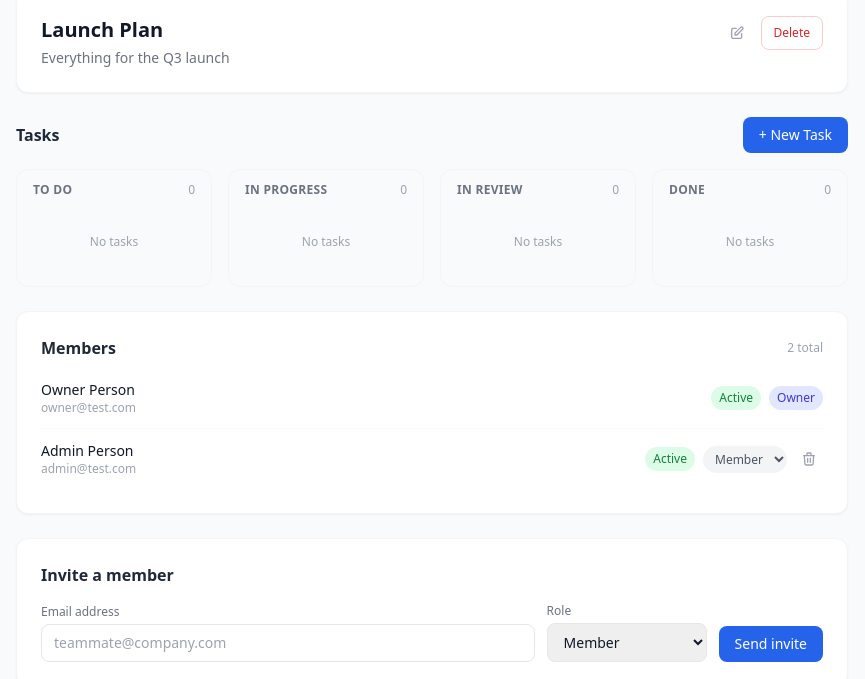
ProjectDetail › changes a member role and removes a member
Check: the text "Admin Person" is shown, box left=41, top=441, right=136, bottom=461
Select "Admin" in the dropdown named "change role for admin person". click: {"x": 745, "y": 459}
box: left=703, top=446, right=787, bottom=472
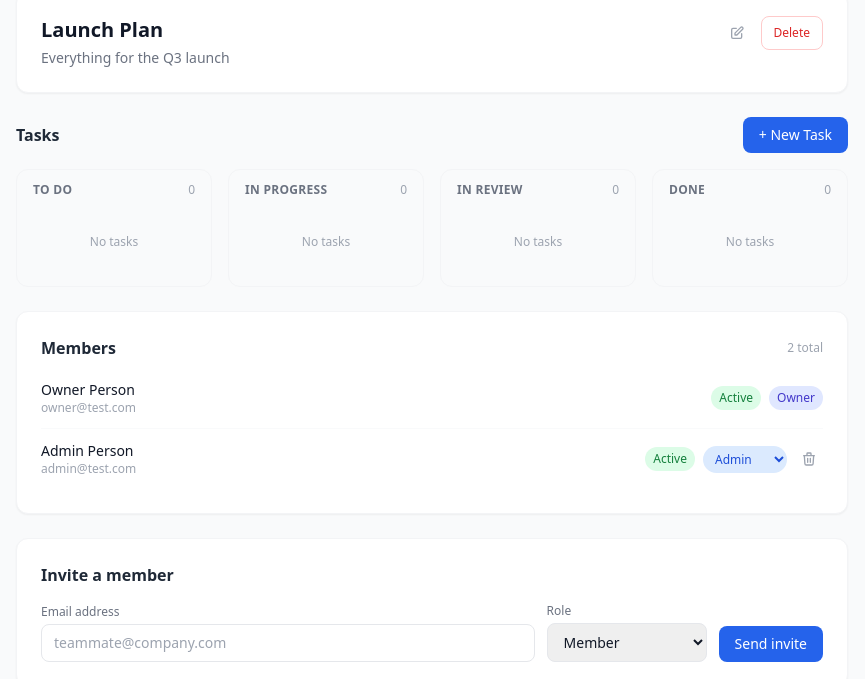
Click the button named "remove admin person". click: {"x": 809, "y": 459}
box: left=795, top=445, right=823, bottom=473
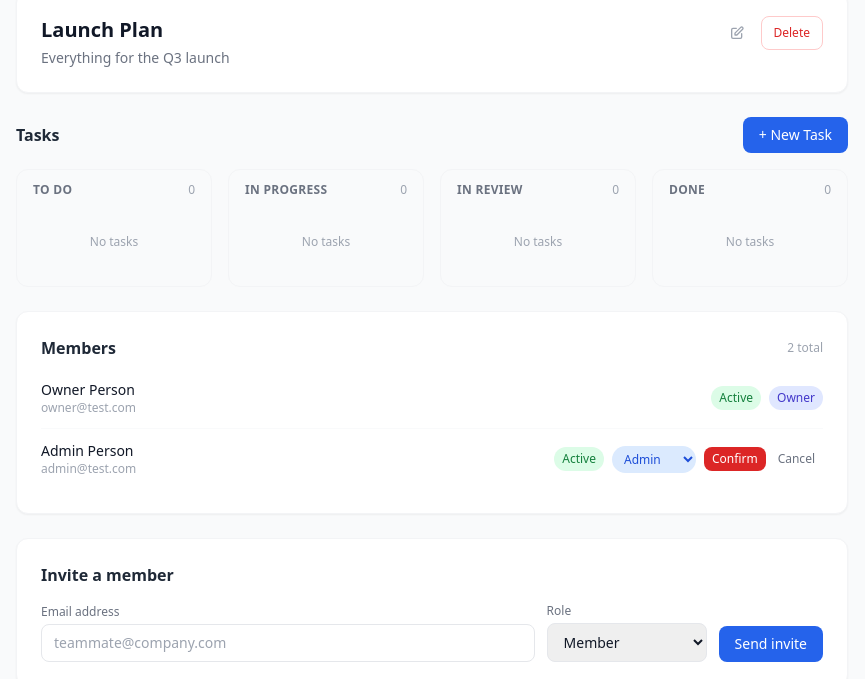
Click the button "Confirm". click: {"x": 735, "y": 459}
box: left=704, top=447, right=766, bottom=471
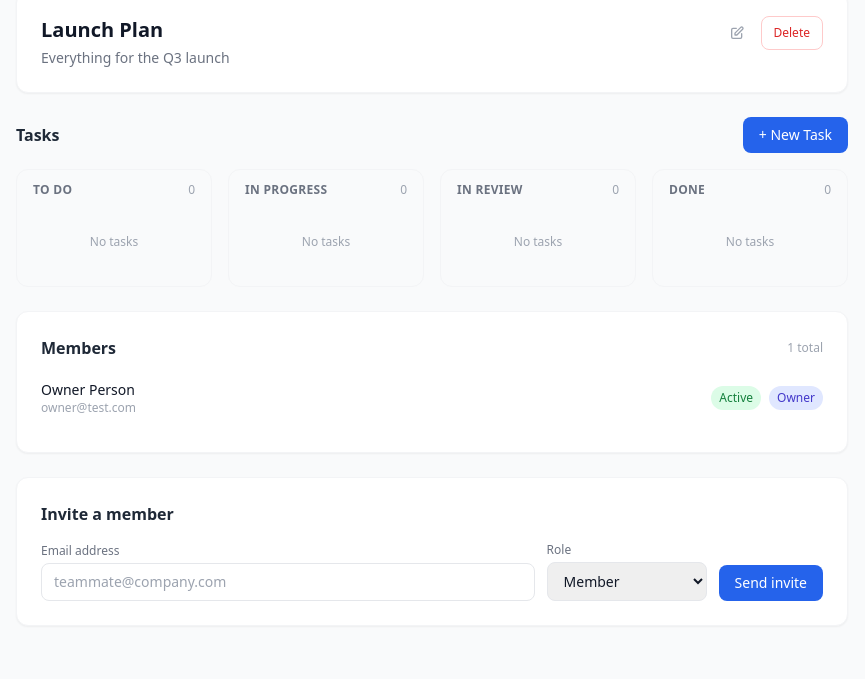
Check: the text "Admin Person" is gone
